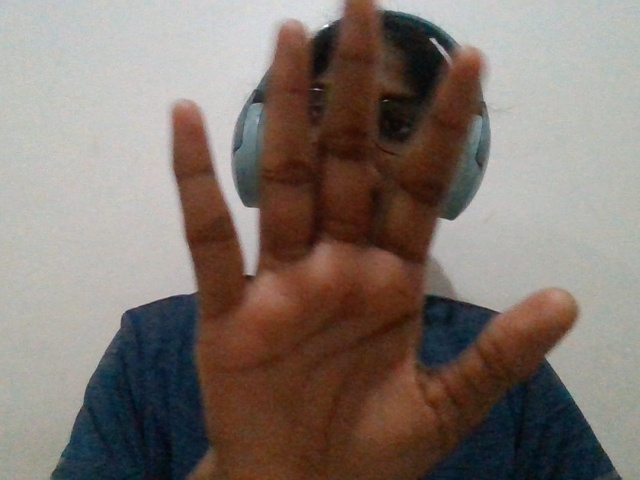Bye: (112, 1, 626, 480)
